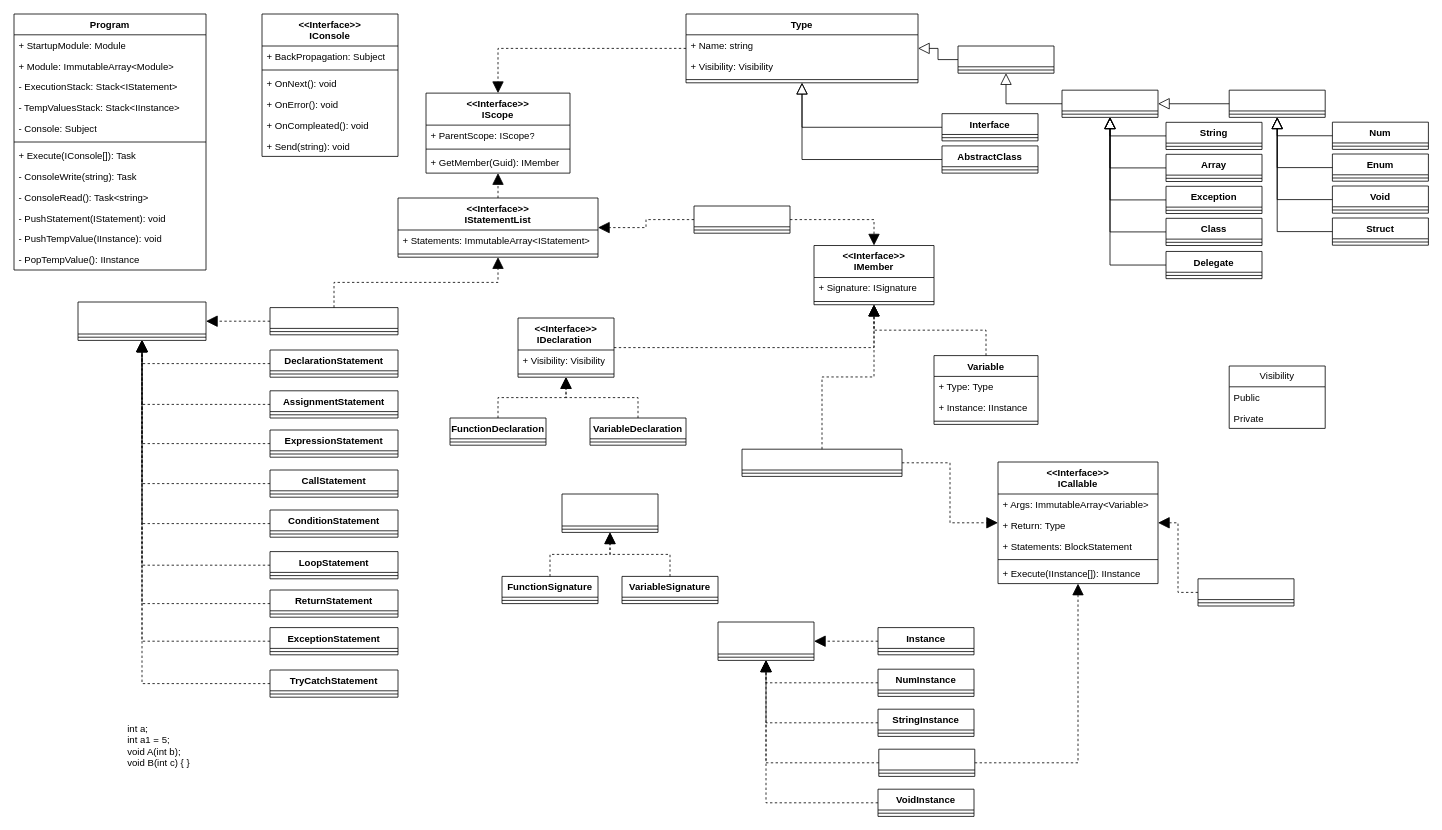
The diagram is 1442 pixels wide and 830 high, and some of its shapes have lost their labels. Each missing label, with the centre of its shape:
"<<Interface>> IInstance" belongs at (x=765, y=640).
"<<Interface>> ISignature" belongs at (x=609, y=512).
"<<Interface>> IStatement" belongs at (x=141, y=320).
"BlockStatement" belongs at (x=333, y=321).
"DelegateInstance" belongs at (x=926, y=762).
"Function" belongs at (x=821, y=462).
"InstantiateType" belongs at (x=1005, y=59).
"Lambda" belongs at (x=1245, y=592).
"Module" belongs at (x=741, y=219).
"Object" belongs at (x=1109, y=103).
"ValueType" belongs at (x=1276, y=103).
